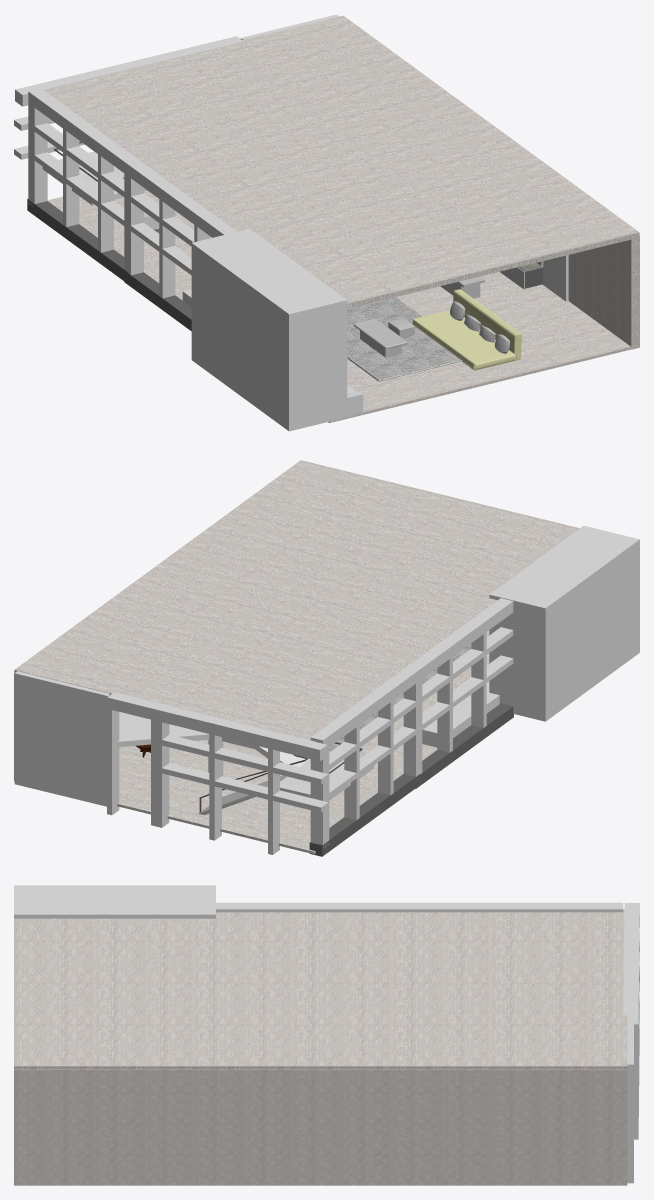
File: interior.fbx
3 views of the same model, one above another, from view 1: azimuth 30°, elevation 25°; view 2: azimuth 150°, elevation 25°; view 3: azimuth 270°, elevation 25° (orthographic). The views are drawn at different scales.
Visible parts, largest first — view 1: floor1, room, outside_railing1, floor, floor2, matt, DOWN_PILLAR, bed, outside_railing, kitchen_room, bed_support, table_LIVING; view 2: floor1, room, outside_railing1, kitchen_room, outside_railing, floor, DOWN_PILLAR; view 3: floor1, floor2, room, outside_railing1, outside_railing, kitchen_room.
Part boxes in pixels (<box>): floor1: <box>44,15,639,310</box>; room: <box>182,228,363,431</box>; outside_railing1: <box>28,88,236,298</box>; floor: <box>47,190,638,422</box>; floor2: <box>568,235,639,349</box>; matt: <box>347,297,461,381</box>; DOWN_PILLAR: <box>27,198,191,331</box>; bed: <box>412,310,516,370</box>; outside_railing: <box>14,36,243,159</box>; kitchen_room: <box>42,14,568,301</box>; bed_support: <box>453,289,521,360</box>; table_LIVING: <box>353,318,407,357</box>; floor1: <box>14,460,579,741</box>; room: <box>422,525,639,747</box>; outside_railing1: <box>310,598,513,847</box>; kitchen_room: <box>14,671,373,815</box>; outside_railing: <box>107,692,328,854</box>; floor: <box>117,630,489,854</box>; DOWN_PILLAR: <box>309,703,513,856</box>; floor1: <box>14,909,627,1069</box>; floor2: <box>14,1069,627,1185</box>; room: <box>14,885,215,918</box>; outside_railing1: <box>216,902,623,912</box>; outside_railing: <box>623,903,639,1139</box>; kitchen_room: <box>627,1015,633,1183</box>.
Size of the model in its own units: 2868 by 971 by 4281.
